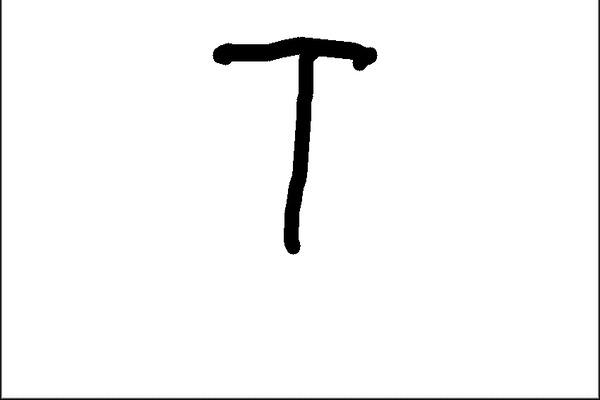T: (211, 29, 391, 257)
